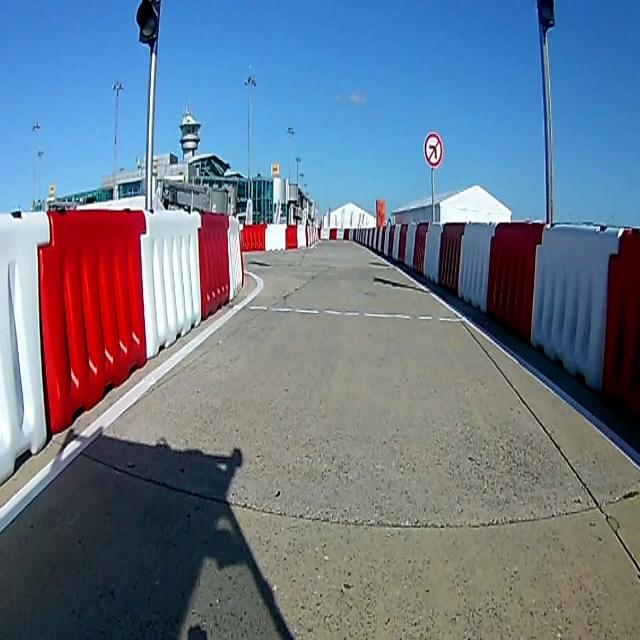soladonulmez: (423, 129, 445, 168)
